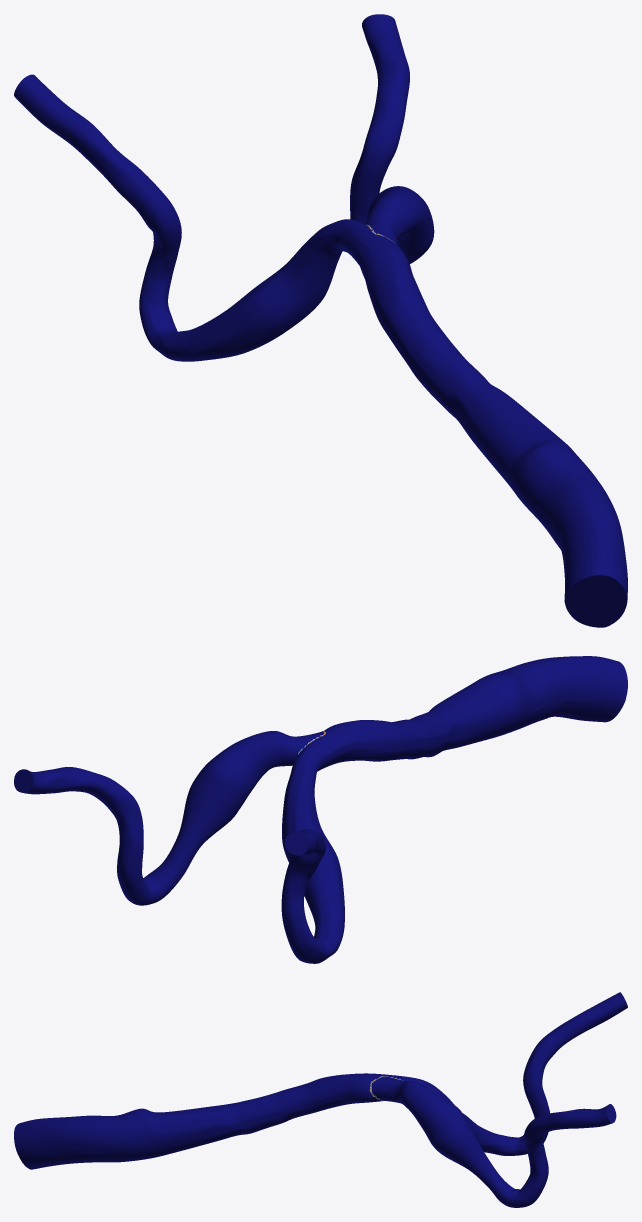
The model's file is prueba.gltf.
3 renders of one model, top to bottom at view 1: azimuth 30°, elevation 25°; view 2: azimuth 150°, elevation 25°; view 3: azimuth 270°, elevation 25°, orthographic. The views are drawn at different scales.
Parts seen in each view (by area): view 1: Renderer Node; view 2: Renderer Node; view 3: Renderer Node.
Part boxes in pixels (bbox=[...]): Renderer Node: bbox=[14, 14, 627, 627]; Renderer Node: bbox=[14, 656, 627, 963]; Renderer Node: bbox=[14, 992, 627, 1207].
Size of the model in its own units: 14.99 by 8.99 by 34.5.
1 material, 1 textured.
